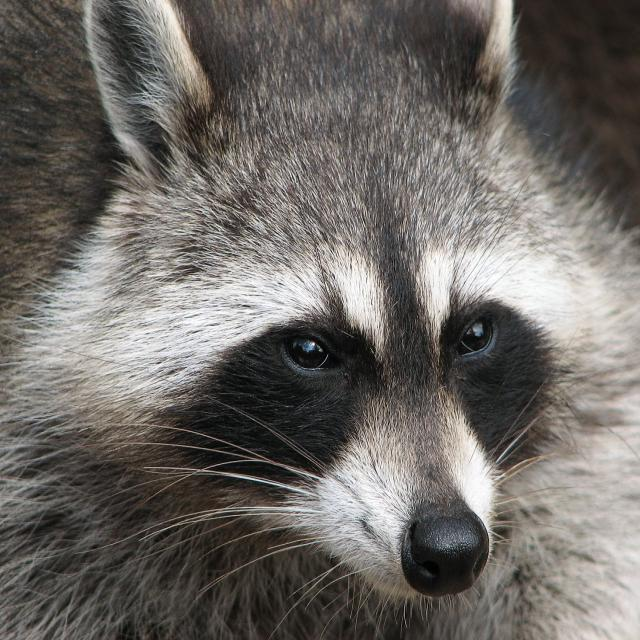Raccoon: (13, 8, 640, 640)
